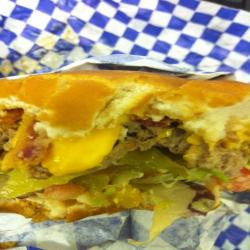burger: (3, 68, 250, 225)
